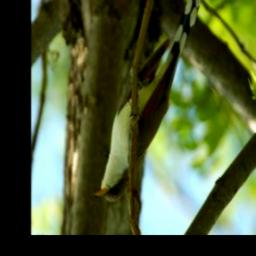Cuckoo: (94, 0, 201, 203)
